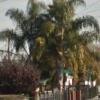Palm tree: (5, 2, 93, 73)
